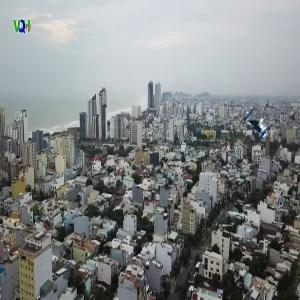drone: (221, 101, 285, 165)
